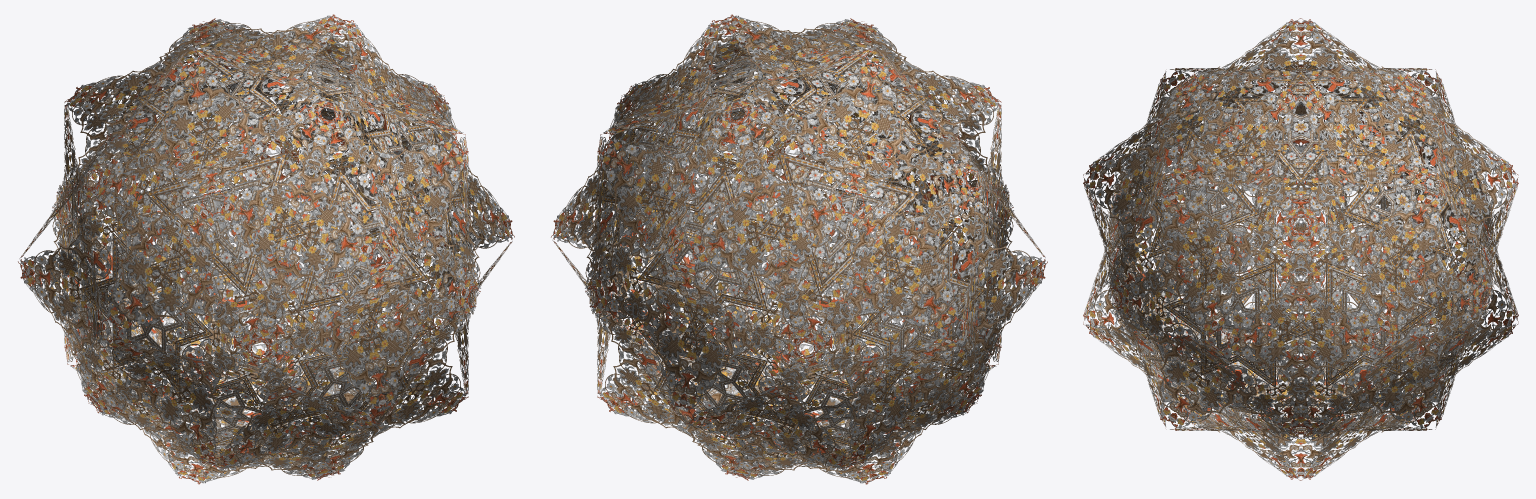
File: SmallTriambicIcosahedron11.gltf
The picture shows the model from 3 angles, left to right: view 1: azimuth 30°, elevation 25°; view 2: azimuth 150°, elevation 25°; view 3: azimuth 270°, elevation 25°; orthographic projection. The views are drawn at different scales.
Parts seen in each view (by area): view 1: SmallTriambicIcosahedron; view 2: SmallTriambicIcosahedron; view 3: SmallTriambicIcosahedron.
Boxes of the visible parts, x1,y1,x2,y2 form: SmallTriambicIcosahedron: (18, 14, 514, 484); SmallTriambicIcosahedron: (551, 14, 1047, 484); SmallTriambicIcosahedron: (1083, 18, 1518, 480).
Size of the model in its own units: 1.45 by 1.45 by 1.45.
Materials: 1 (1 with a texture image).
